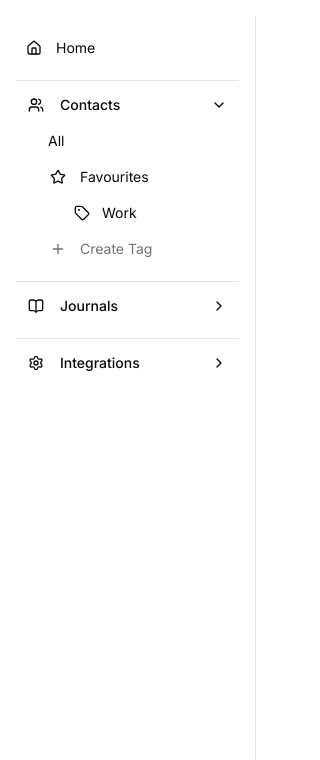
Scenario: Sidebar - Journal Tags › keeps the contact and journal tag trees pointed at their own list routes
The image size is (320, 760).
Click the button "Journals": click(128, 306) [16,290,239,322]
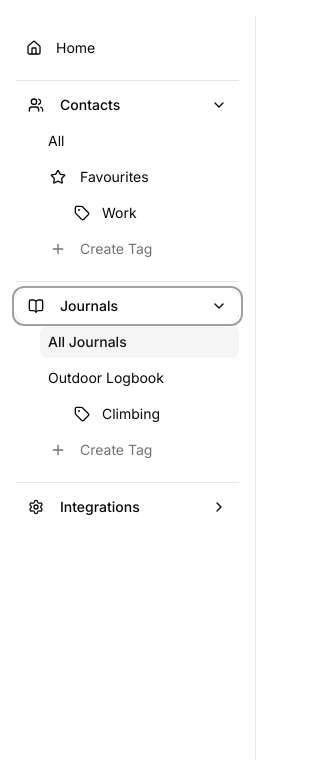
Expected: the element with test id "tag-tree-container" is shown, [74,204,137,221]
Expected: the element with test id "journal-tag-tree-container" is shown, [74,405,160,422]
